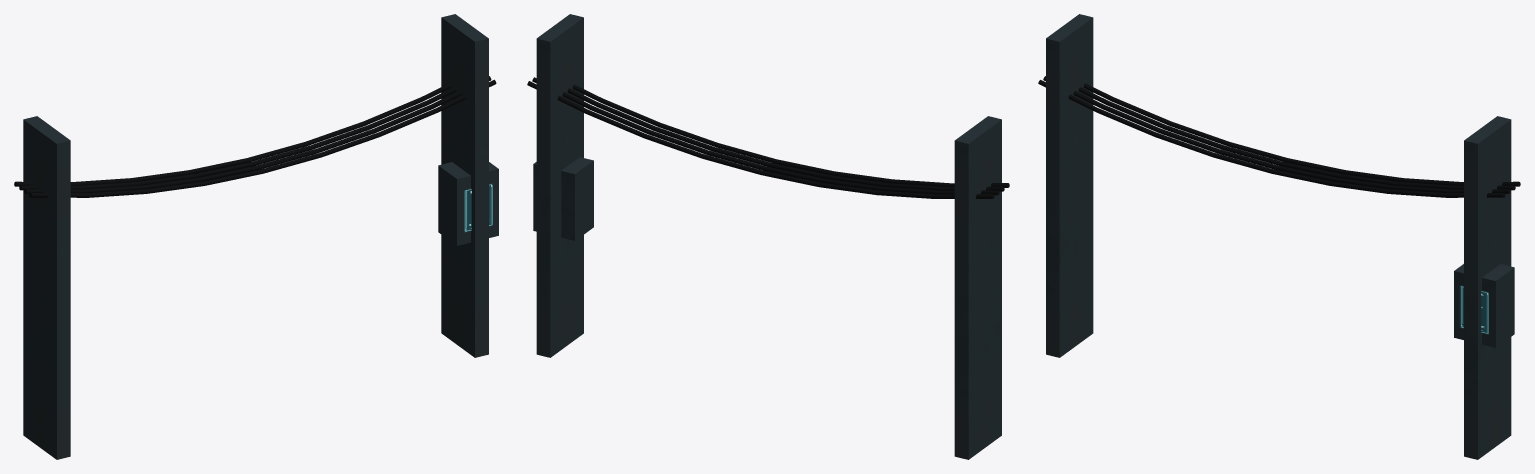
Rendered from NC_CableSpan_LOD1.fbx.
3 renders of one model, left to right at view 1: azimuth 30°, elevation 25°; view 2: azimuth 150°, elevation 25°; view 3: azimuth 330°, elevation 25°, orthographic.
Visible parts, largest first — view 1: NC_CableSpan_LOD1; view 2: NC_CableSpan_LOD1; view 3: NC_CableSpan_LOD1.
Boxes of the visible parts, <box> form: NC_CableSpan_LOD1: <box>14,14,498,459</box>; NC_CableSpan_LOD1: <box>527,14,1009,459</box>; NC_CableSpan_LOD1: <box>1038,14,1520,459</box>.
Size of the model in its own units: 401 by 260 by 50.
